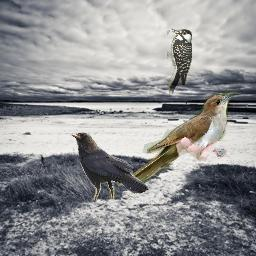Crow: (70, 132, 149, 200)
Cuckoo: (117, 91, 237, 186)
Woodpecker: (167, 28, 192, 95)
